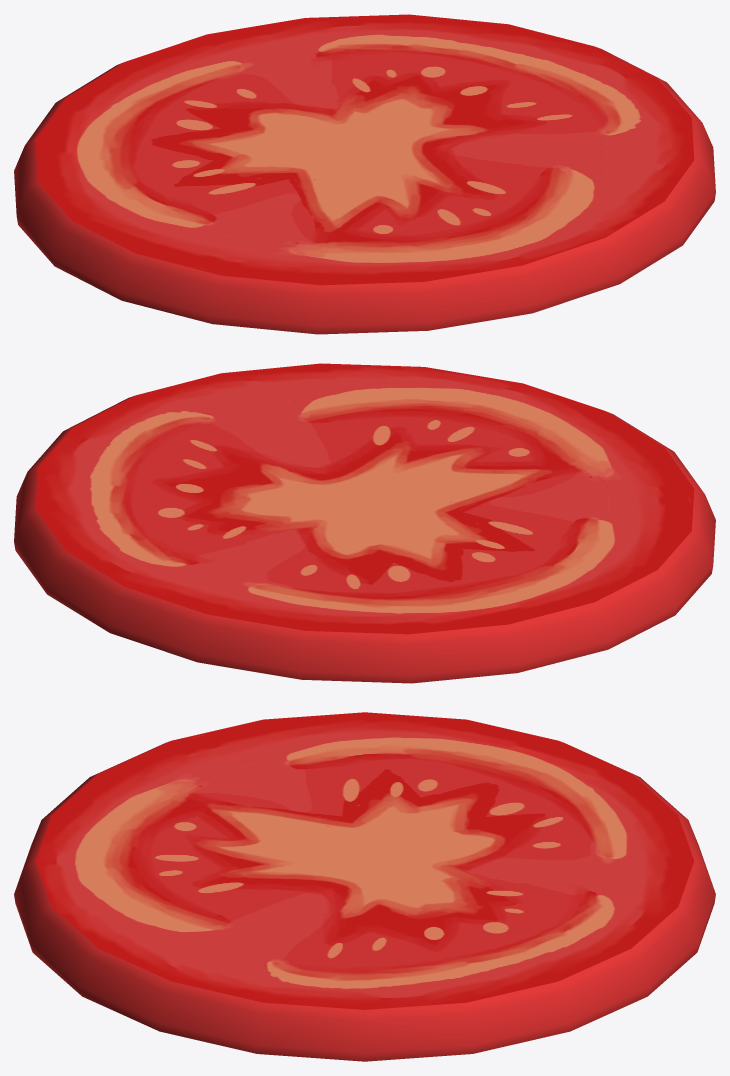
The model's file is Anim_Obj_Jitomate.fbx.
The picture shows the model from 3 angles, top to bottom: view 1: azimuth 30°, elevation 25°; view 2: azimuth 150°, elevation 25°; view 3: azimuth 270°, elevation 25°; orthographic projection. The views are drawn at different scales.
Parts seen in each view (by area): view 1: Obj_Jitomate; view 2: Obj_Jitomate; view 3: Obj_Jitomate.
Boxes of the visible parts, x1,y1,x2,y2 form: Obj_Jitomate: (14,14,715,334); Obj_Jitomate: (14,363,715,683); Obj_Jitomate: (14,712,715,1061).
Bounding box in the file's own units: 2.62 × 0.1642 × 2.45.
1 material, 1 textured.
